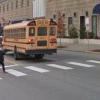Bus: (0, 18, 62, 59)
